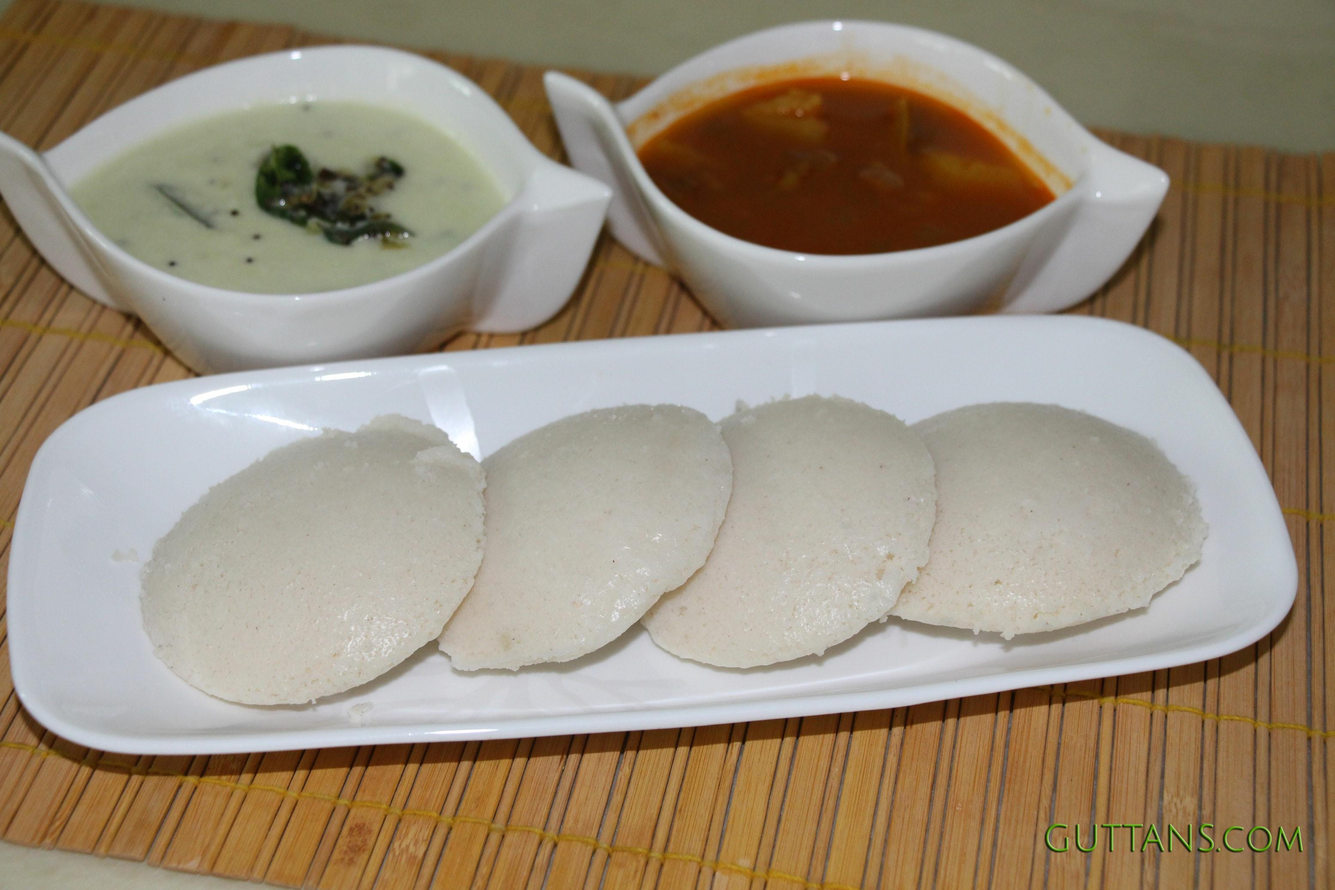CoconutChutney: (75, 98, 512, 297)
Idli: (140, 423, 483, 711), (641, 388, 937, 670), (442, 401, 733, 678), (887, 399, 1205, 639)
